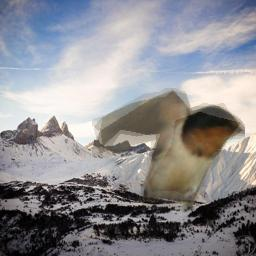Swallow: (92, 88, 245, 211)
